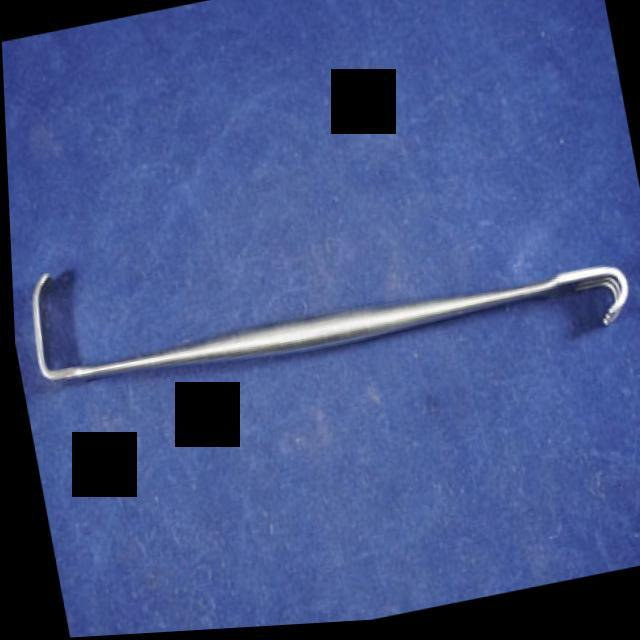Senn Retractor: (10, 162, 640, 454)
